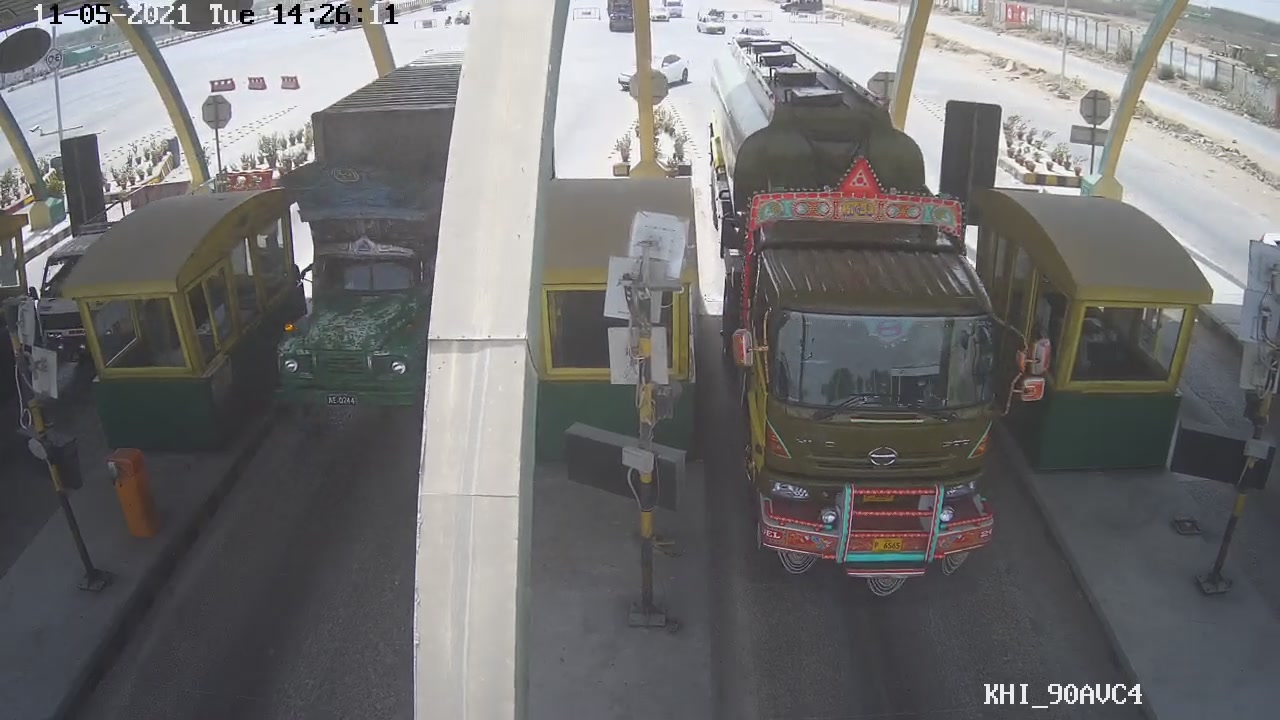F6: (705, 9, 1022, 602)
